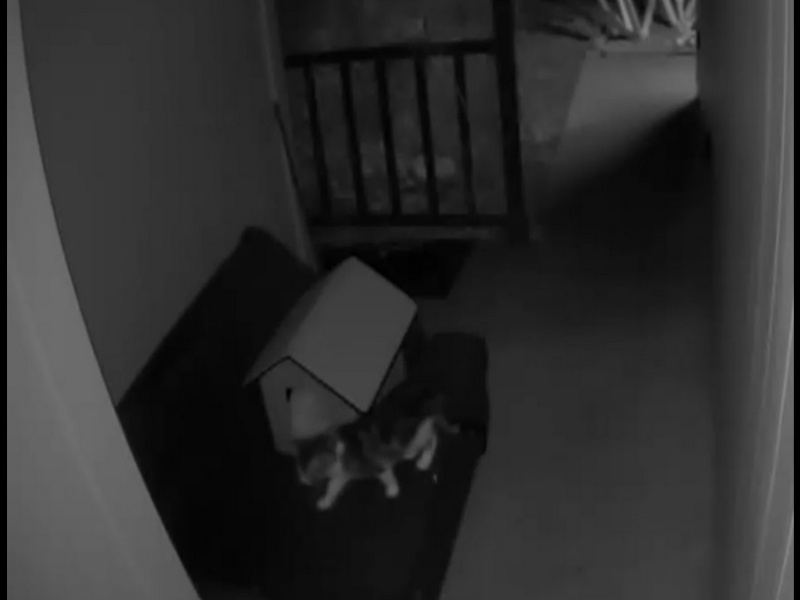cat: (292, 380, 473, 516)
